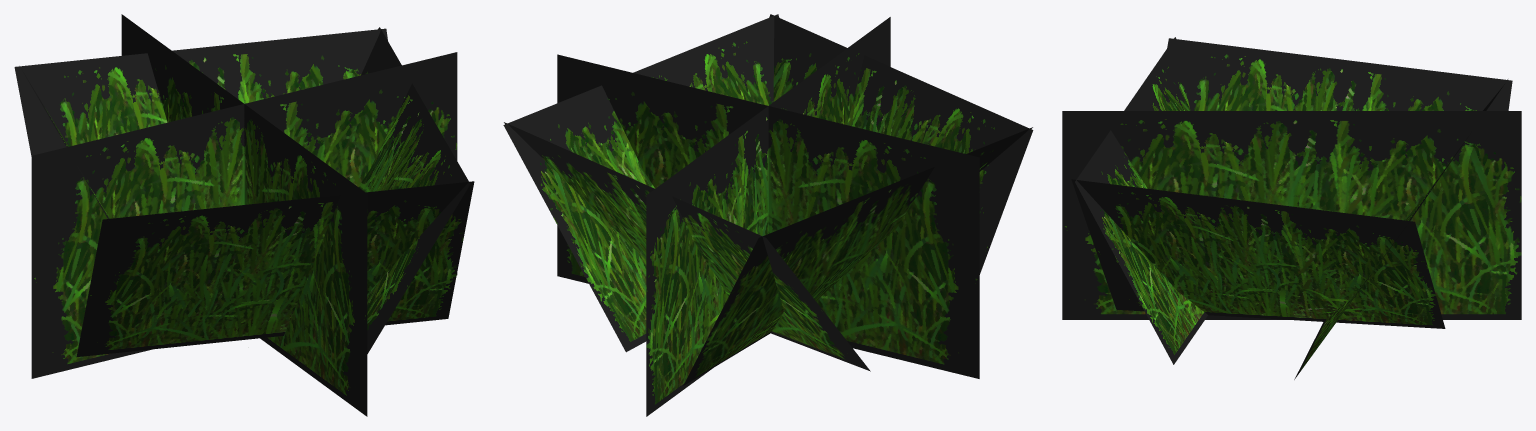
The model's file is Grass.glb.
3 views of the same model, side by side, from view 1: azimuth 30°, elevation 25°; view 2: azimuth 150°, elevation 25°; view 3: azimuth 270°, elevation 25° (orthographic). The views are drawn at different scales.
Parts seen in each view (by area): view 1: Plane.002; view 2: Plane.002; view 3: Plane.002.
Boxes of the visible parts, x1,y1,x2,y2 form: Plane.002: (14, 14, 474, 416); Plane.002: (503, 14, 1033, 416); Plane.002: (1062, 37, 1521, 379).
Size of the model in its own units: 1.62 by 0.8118 by 1.62.
1 material, 1 textured.
